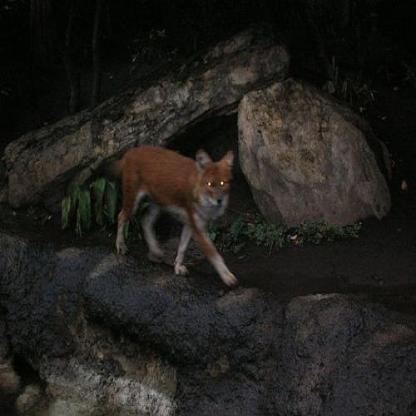dhole: (100, 140, 238, 285)
